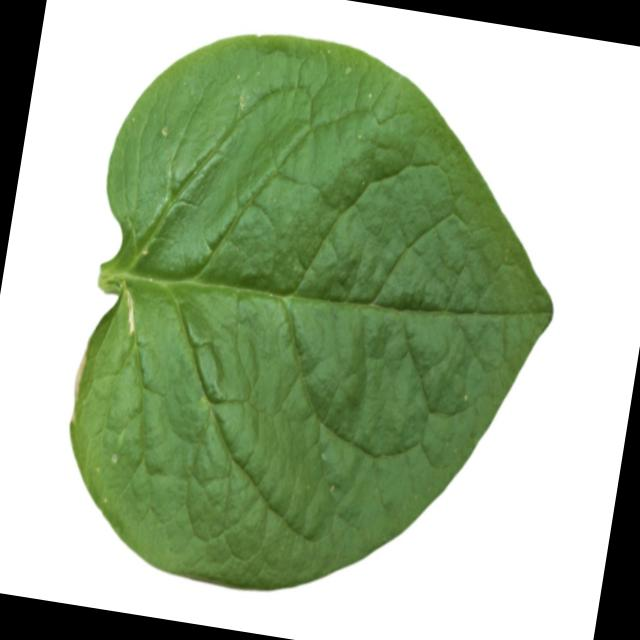Medicinal-Basale: (44, 10, 590, 631)
